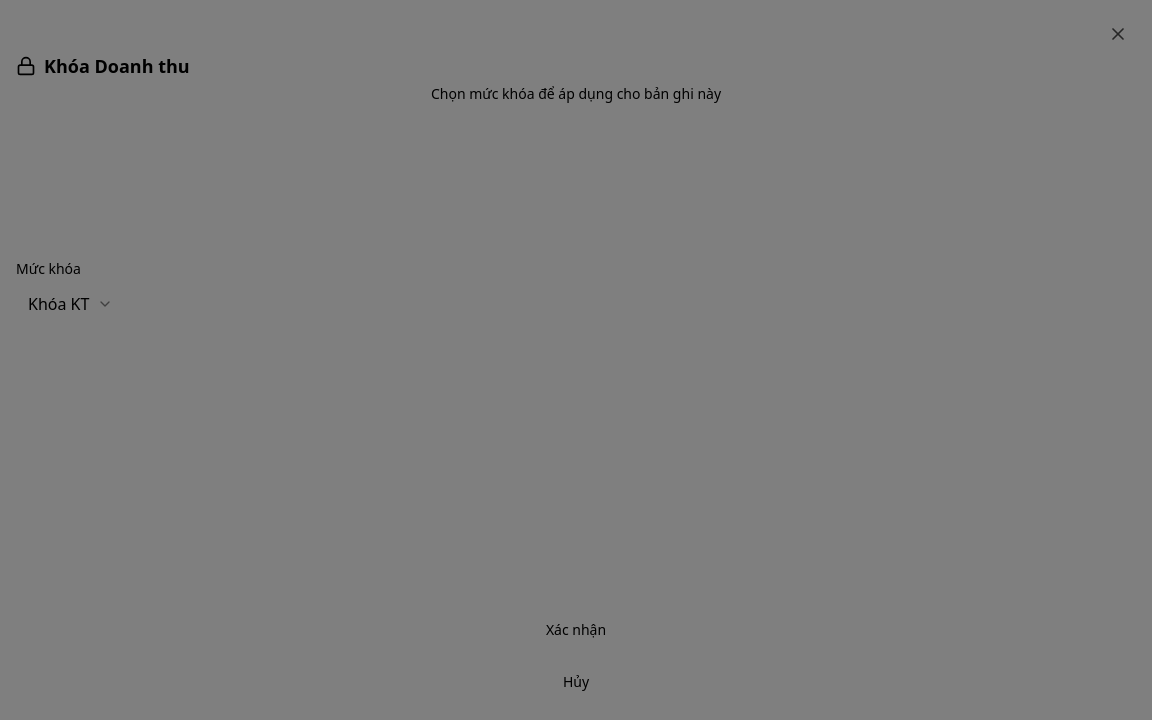
Scenario: RevenueLockDialog › Tier Selection › disables Admin when KT not locked
Click the dropdown named "Mức khóa": (71, 304) left=16, top=284, right=125, bottom=324
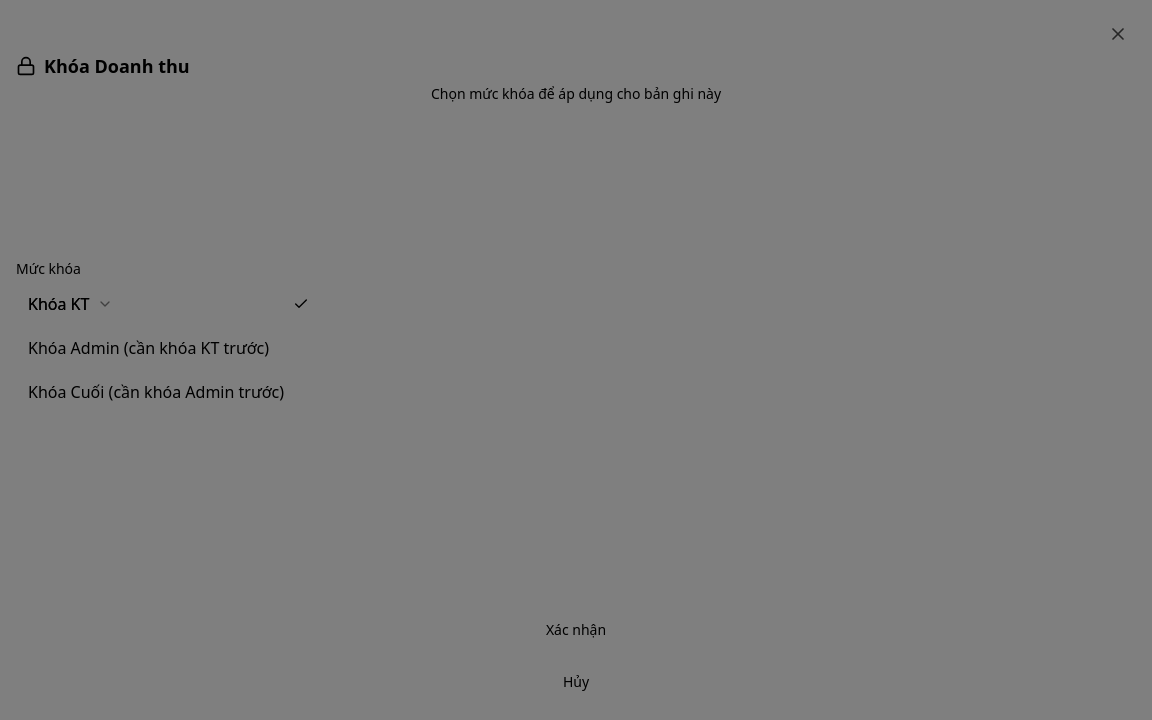
Expected: the text "Khóa Admin (cần khóa KT trước)" is shown, left=28, top=336, right=269, bottom=360
